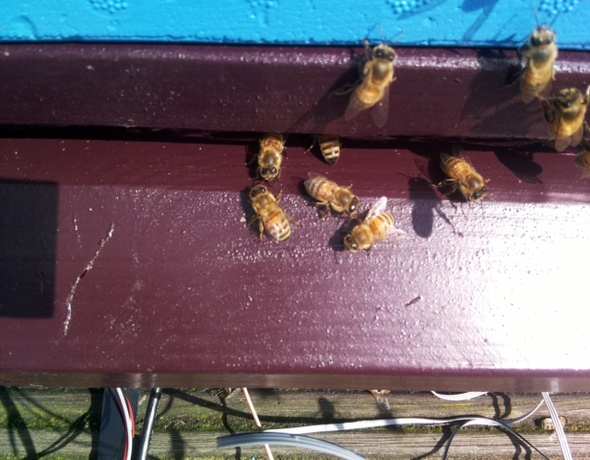no_pollen: (347, 41, 400, 114), (430, 152, 494, 207), (517, 23, 560, 101), (244, 182, 295, 247), (302, 170, 361, 222), (340, 207, 399, 257), (550, 86, 588, 147), (255, 131, 286, 184), (315, 134, 344, 166)
